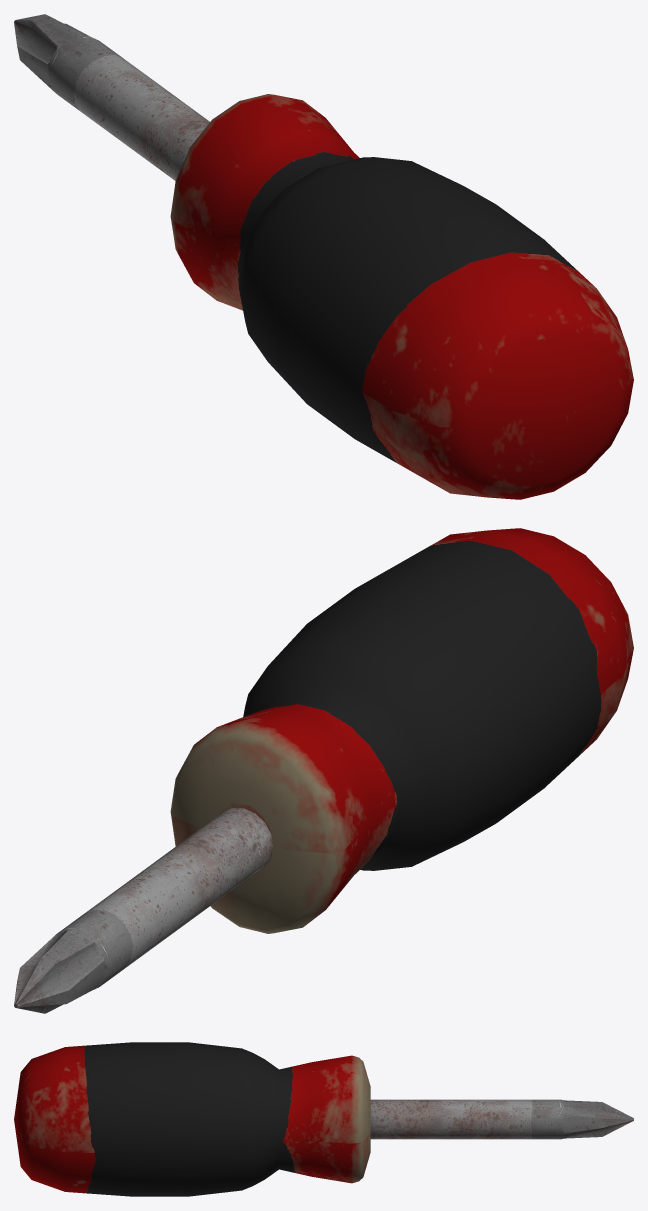
Rendered from Screwdriver01_2.FBX.
3 renders of one model, top to bottom at view 1: azimuth 30°, elevation 25°; view 2: azimuth 150°, elevation 25°; view 3: azimuth 270°, elevation 25°, orthographic. The views are drawn at different scales.
Parts seen in each view (by area): view 1: Screwdriver01_2_LOD0; view 2: Screwdriver01_2_LOD0; view 3: Screwdriver01_2_LOD0.
Part boxes in pixels (box(x1,y1,x2,y2)): Screwdriver01_2_LOD0: box(14, 14, 633, 499); Screwdriver01_2_LOD0: box(14, 528, 633, 1013); Screwdriver01_2_LOD0: box(14, 1042, 633, 1196).
Size of what is drawn, in the model's own units: 3.54 by 3.22 by 13.31.
